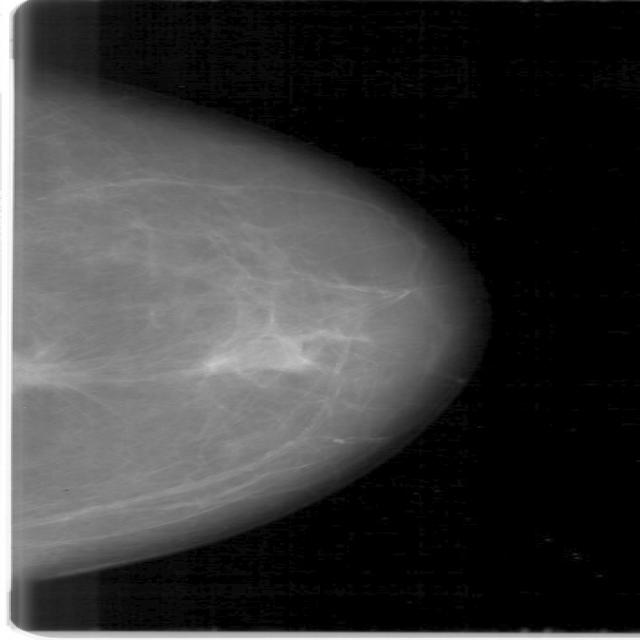tumour: (9, 357, 65, 390)
